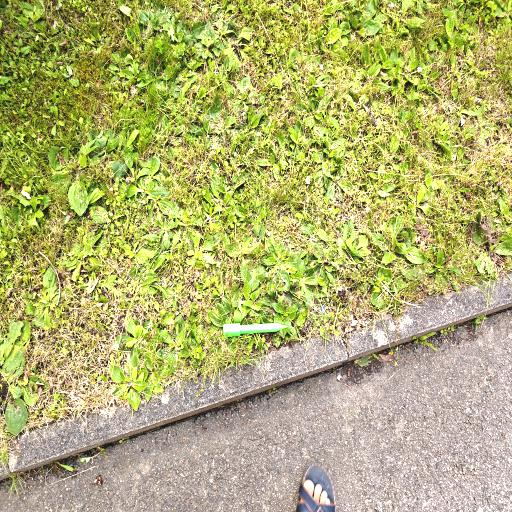Probe-Detection: (223, 323, 287, 336)
